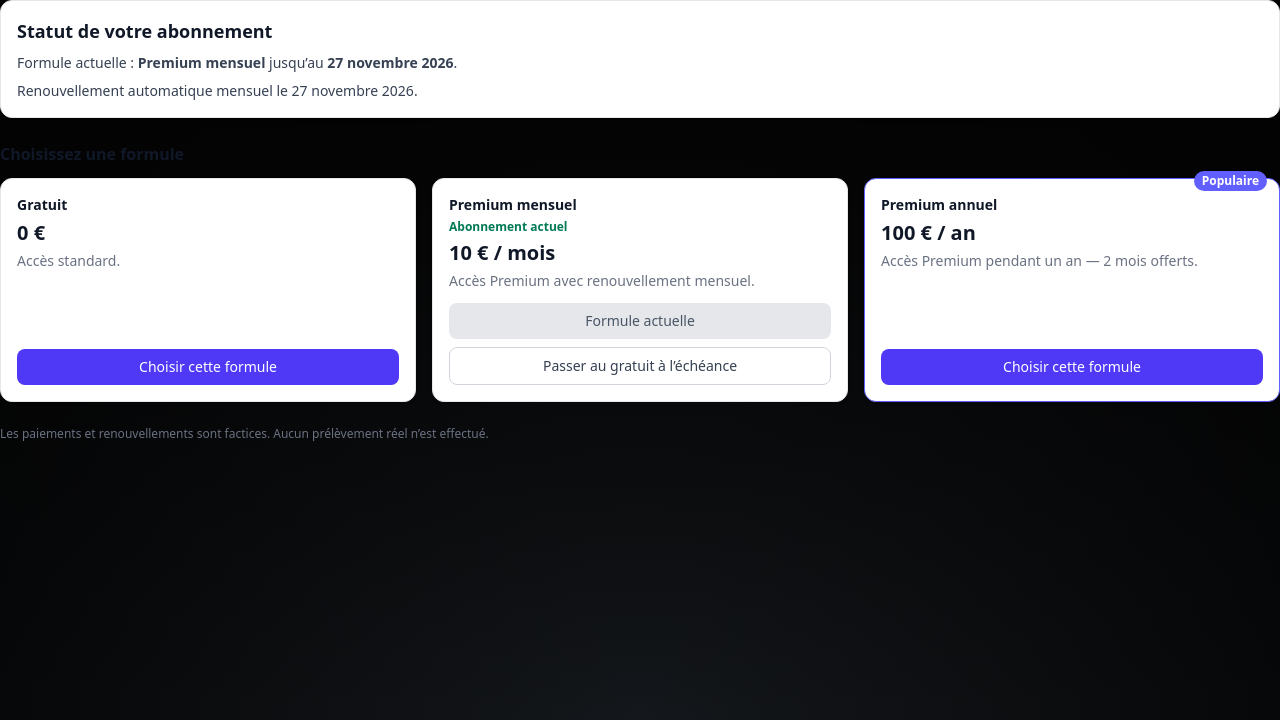
Test: confirme le changement annuel et montre sa prise d'effet au renouvellement
Click the button with aria-label "Choisir cette formule : Premium annuel" at (1072, 367), box [881,349,1263,385]
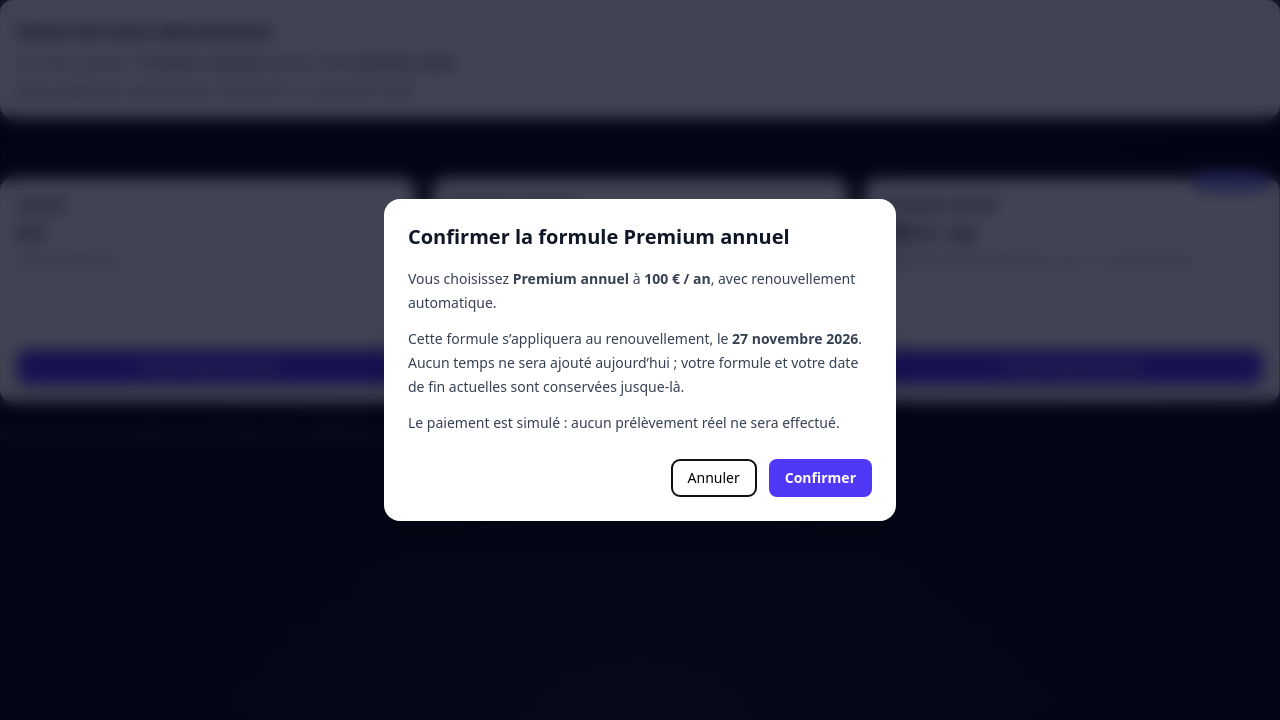
Expected: the button "Confirmer" is enabled
Expected: the text "Aucun temps ne sera ajouté aujourd’hui" shows "27 novembre 2026", [732,329,858,348]
Click the button "Confirmer" at (820, 478), box [769,459,872,497]
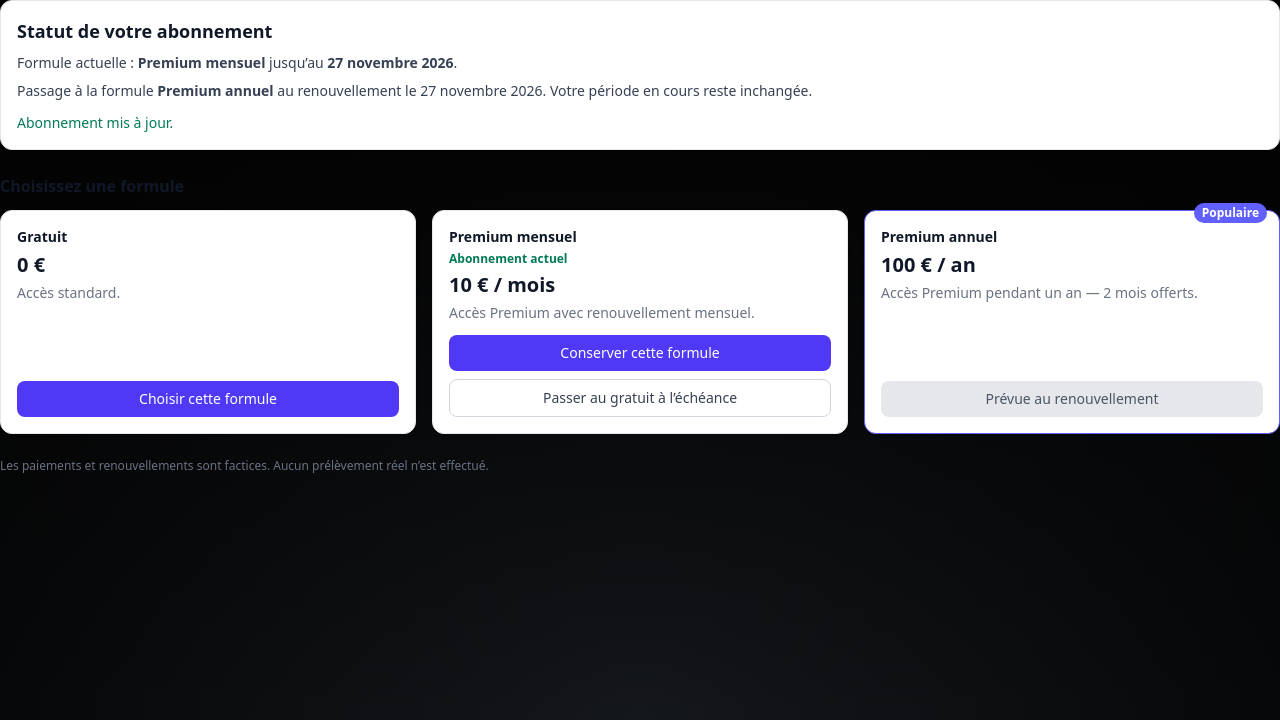
Expected: the button with aria-label "Prévue au renouvellement : Premium annuel" is disabled, [881,381,1263,417]
Expected: the button with aria-label "Conserver cette formule : Premium mensuel" is enabled, [449,335,831,371]
